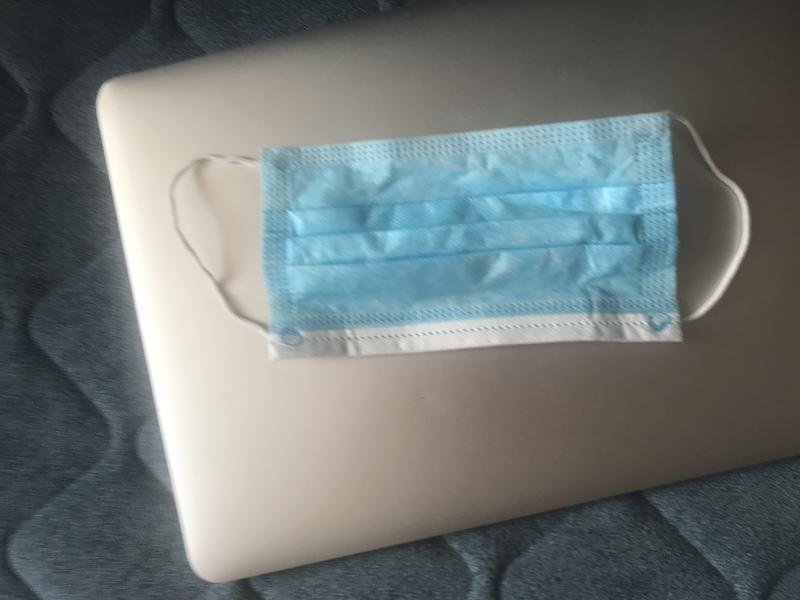medical_mask: (166, 111, 754, 357)
